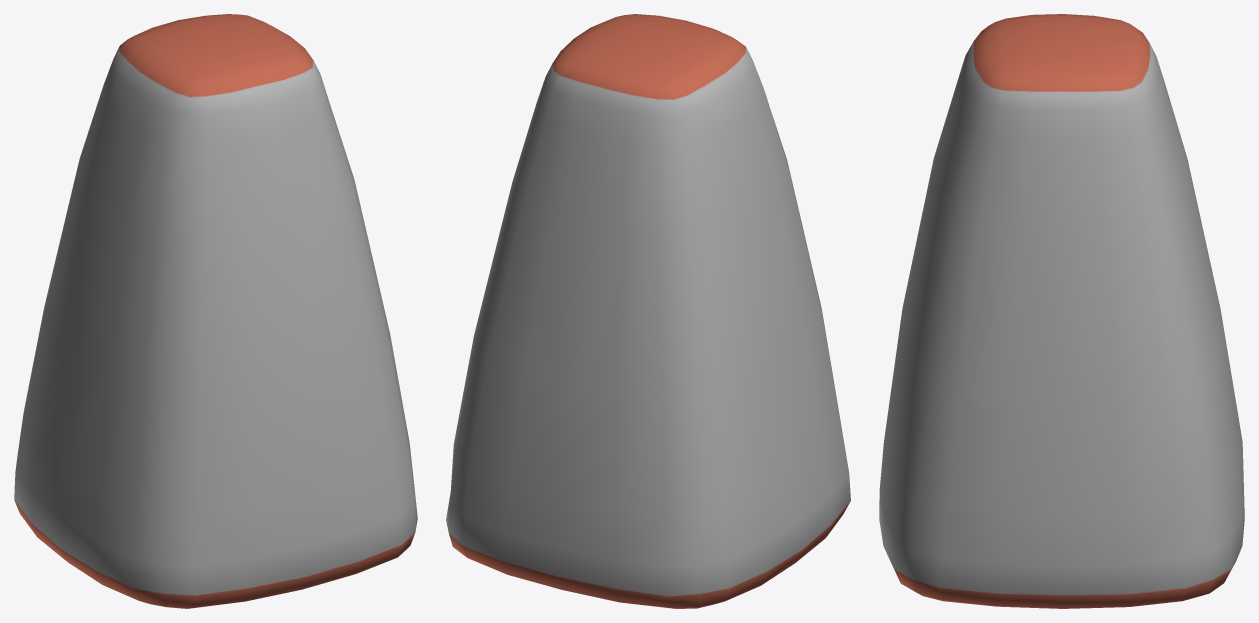
Rendered from Tower.fbx.
3 views of the same model, side by side, from view 1: azimuth 30°, elevation 25°; view 2: azimuth 150°, elevation 25°; view 3: azimuth 270°, elevation 25° (orthographic). The views are drawn at different scales.
Visible parts, largest first — view 1: Tower_M; view 2: Tower_M; view 3: Tower_M.
Part boxes in pixels (x1,y1,x2,y2): Tower_M: (14,14,417,608); Tower_M: (446,14,850,608); Tower_M: (879,14,1244,608).
Size of the model in its own units: 162 by 253 by 163.
